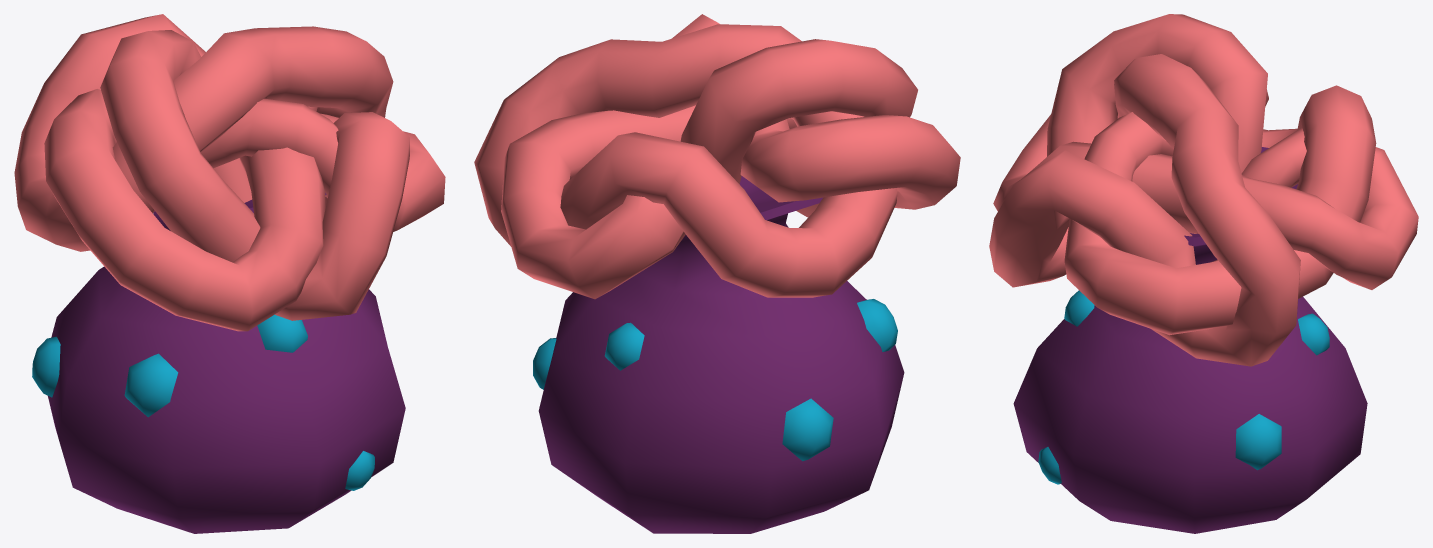
File: Plant_2_purple.fbx
3 renders of one model, left to right at view 1: azimuth 30°, elevation 25°; view 2: azimuth 150°, elevation 25°; view 3: azimuth 270°, elevation 25°, orthographic. The views are drawn at different scales.
Visible parts, largest first — view 1: Plant_2_purple; view 2: Plant_2_purple; view 3: Plant_2_purple.
Part boxes in pixels (left/top/right/bottom): Plant_2_purple: left=14, top=14, right=445, bottom=533; Plant_2_purple: left=474, top=14, right=960, bottom=533; Plant_2_purple: left=989, top=14, right=1418, bottom=533.
Bounding box in the file's own units: 3.19 × 3.72 × 3.28.
